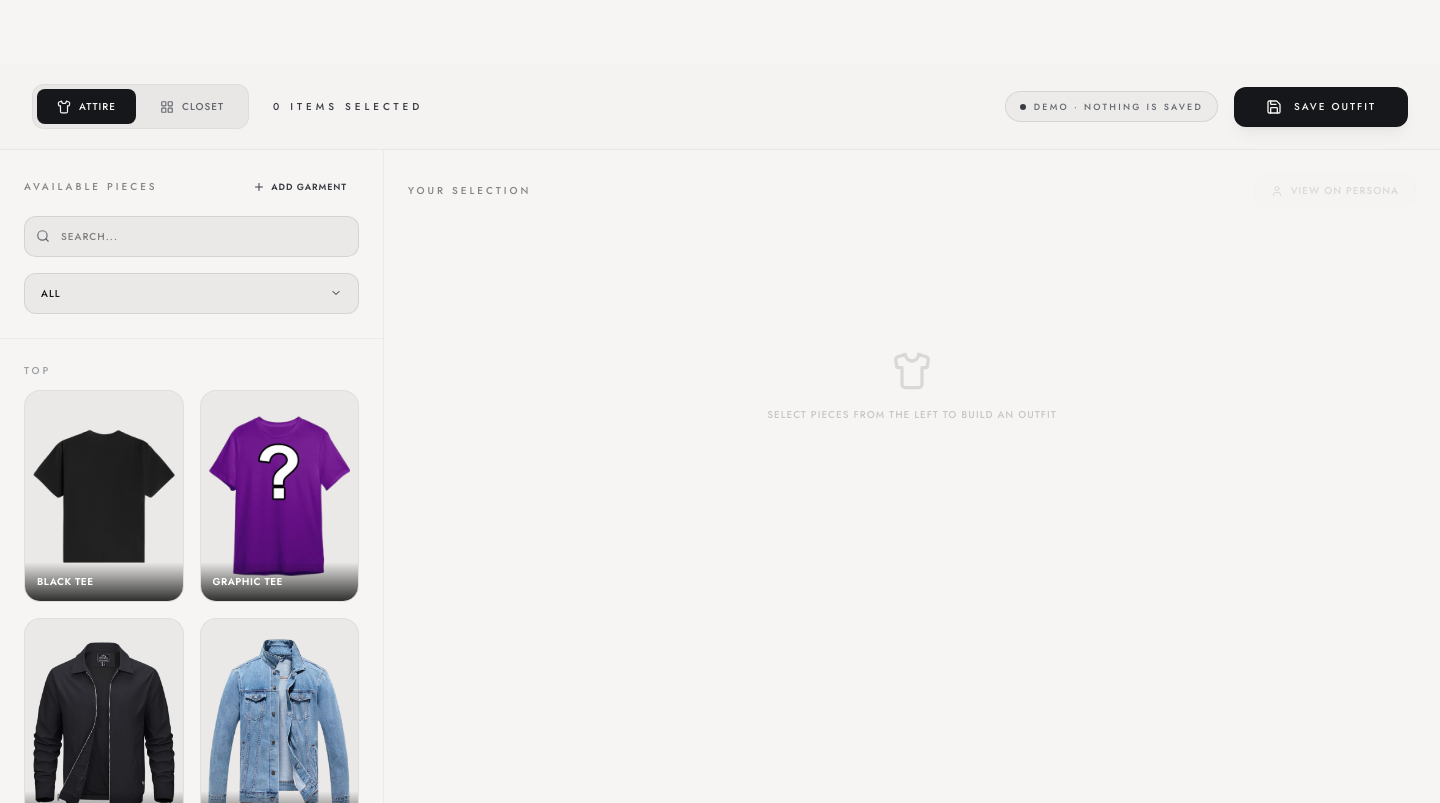
DemoPage › deselecting an item from the selection panel stays free (not gated)
Click the element showing "Black Tee" at (104, 496), box [24, 390, 184, 602]
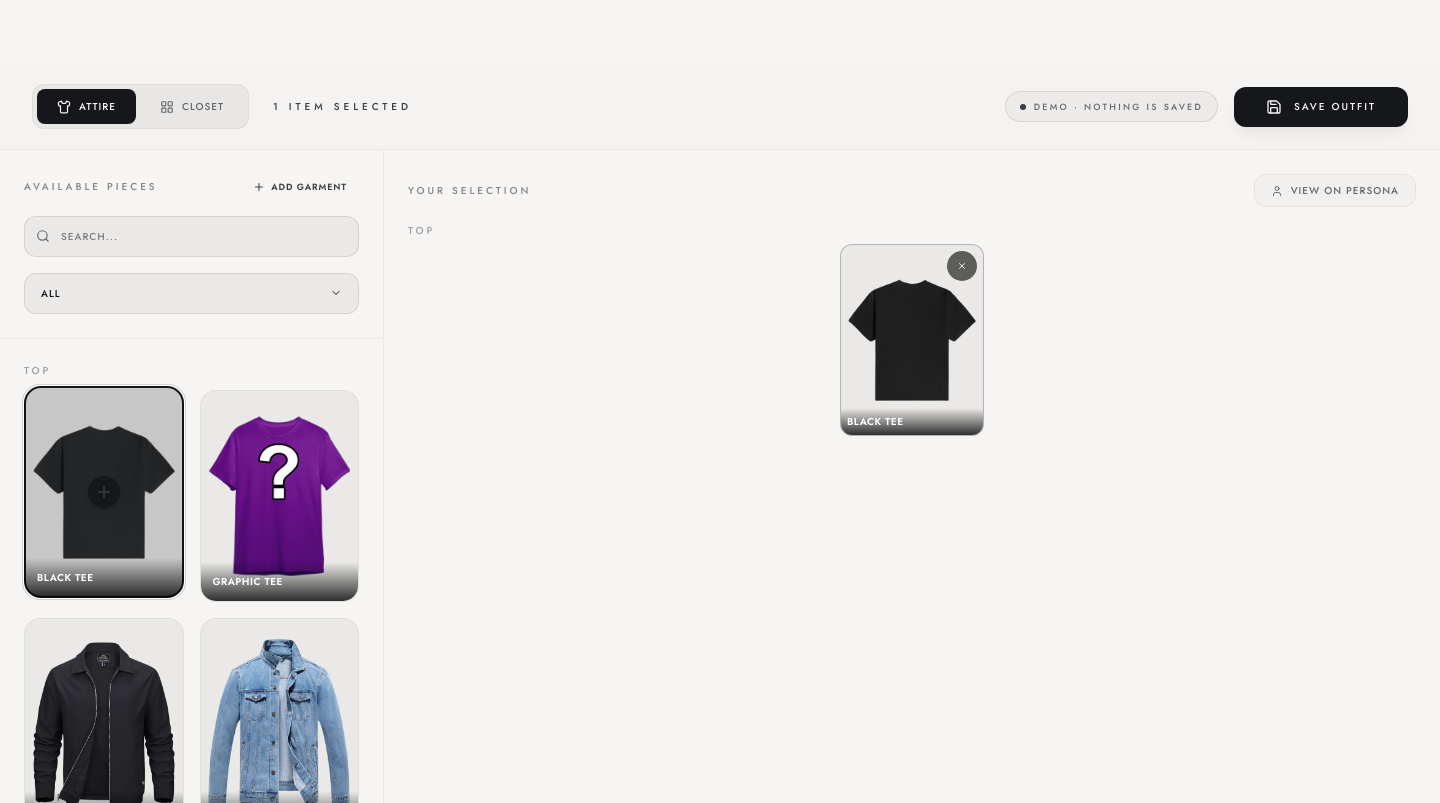
Expected: the text "1 Item Selected" is shown, [273, 99, 412, 114]
Click the button titled "Remove from outfit" at (962, 266), box [947, 251, 977, 281]
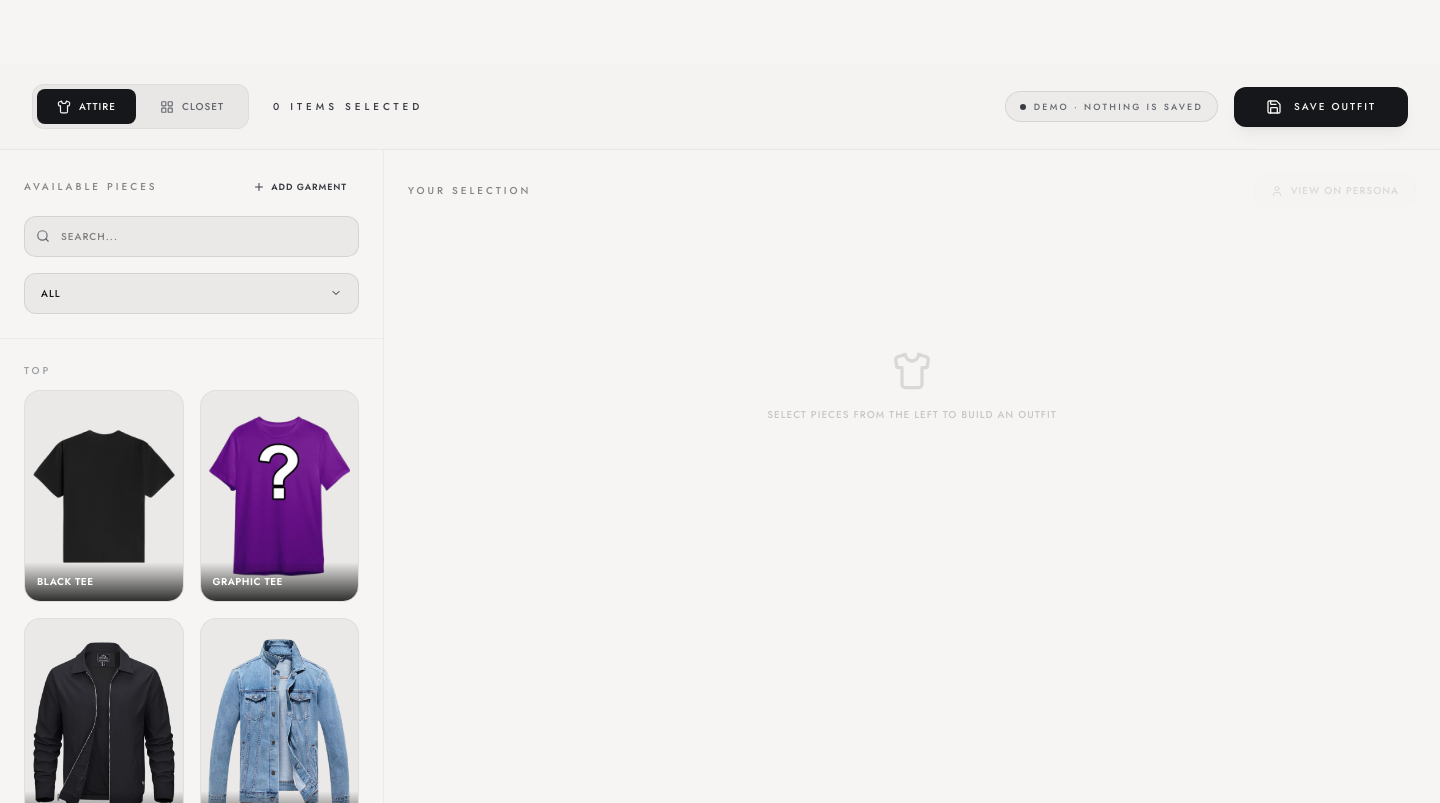
Expected: the text "0 Items Selected" is shown, [273, 99, 423, 114]
